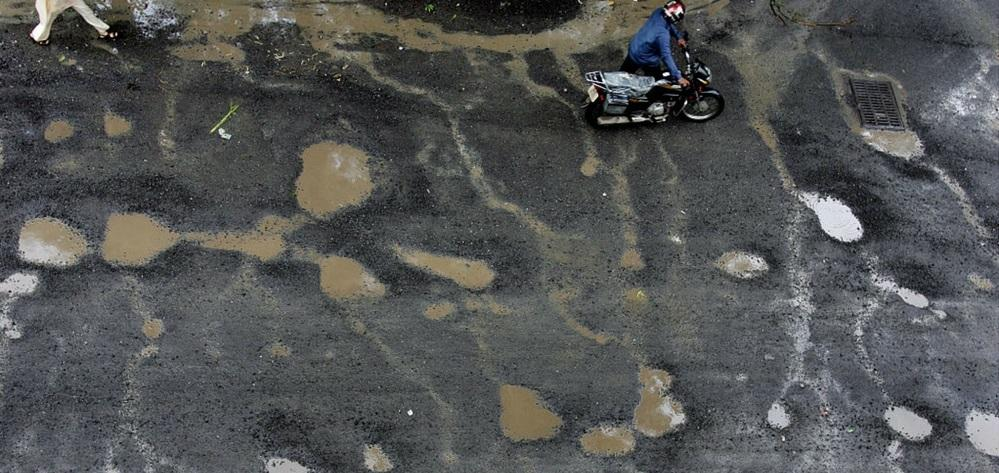pothole: (757, 156, 881, 266), (274, 116, 369, 226), (471, 367, 581, 457), (299, 244, 399, 324), (103, 201, 194, 284), (393, 231, 499, 301), (16, 199, 84, 283)
